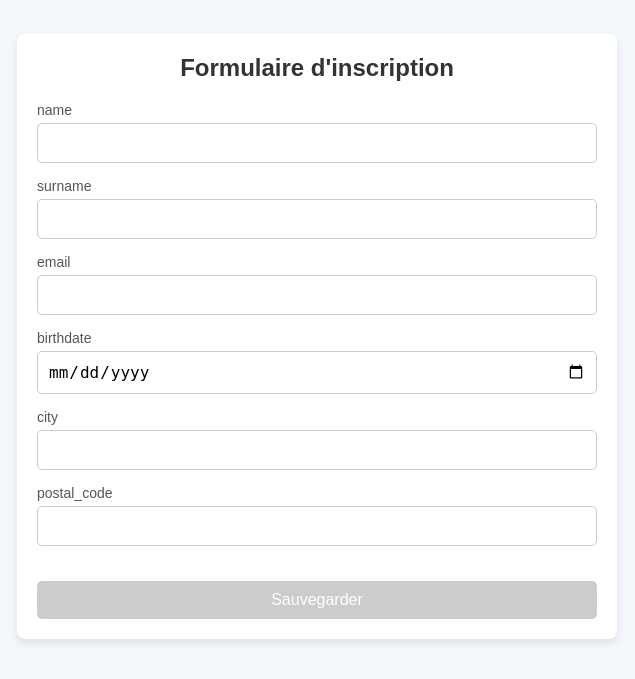
RegistrationForm › should validate form fields
The image size is (635, 679).
Type "John" into the field labelled "name" at (317, 142), box 37,122 -> 597,162
Type "Doe" into the field labelled "surname" at (317, 218), box 37,198 -> 597,238
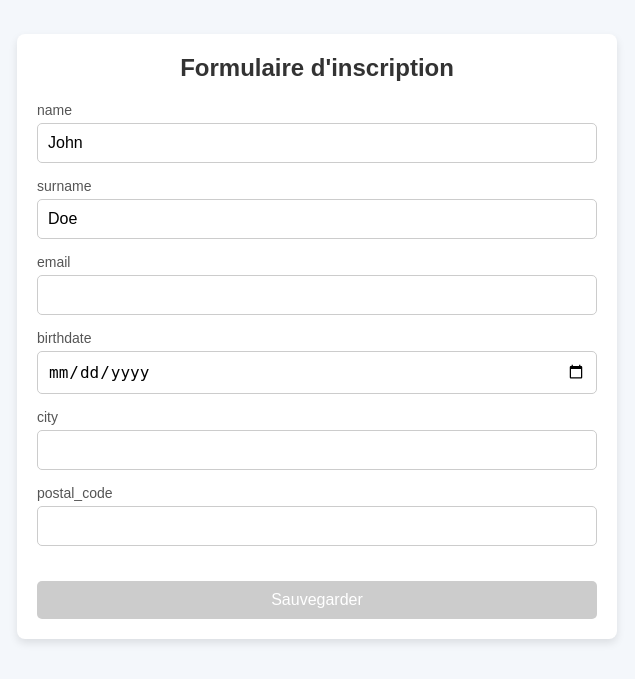
Type "invalid-email" into the field labelled "email" at (317, 294), box 37,274 -> 597,314
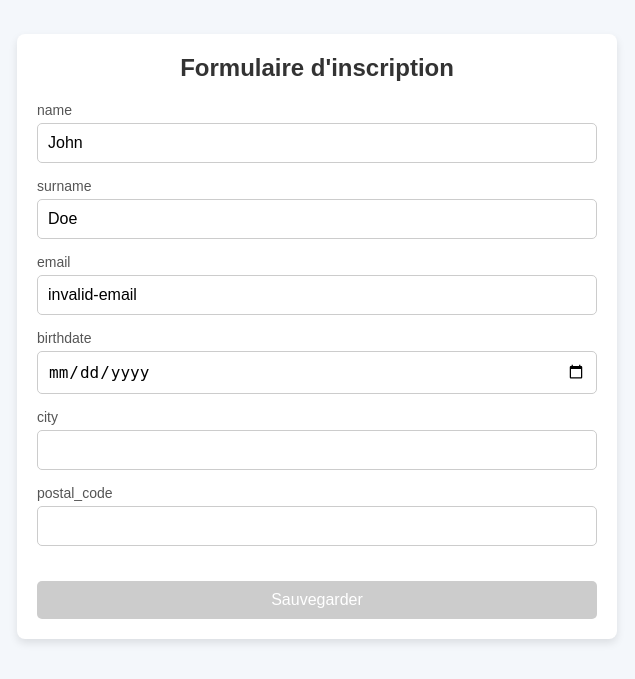
Type "2015-01-01" into the date field labelled "birthdate" at (317, 372), box 37,350 -> 597,394
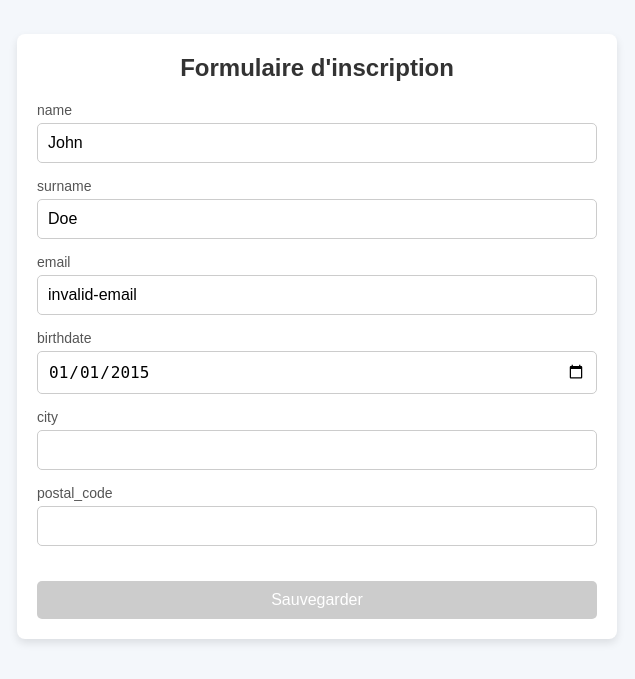
Type "Paris" into the field labelled "city" at (317, 450), box 37,430 -> 597,470
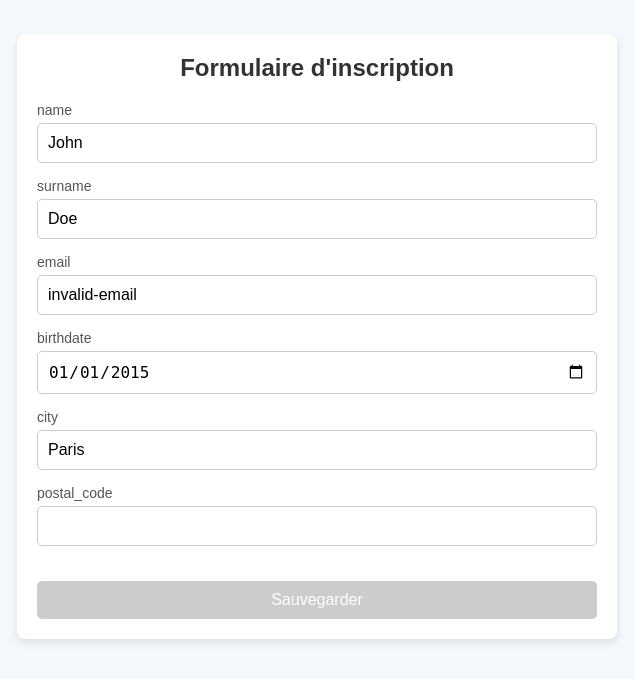
Type "75000" into the field labelled "postal_code" at (317, 526), box 37,506 -> 597,546
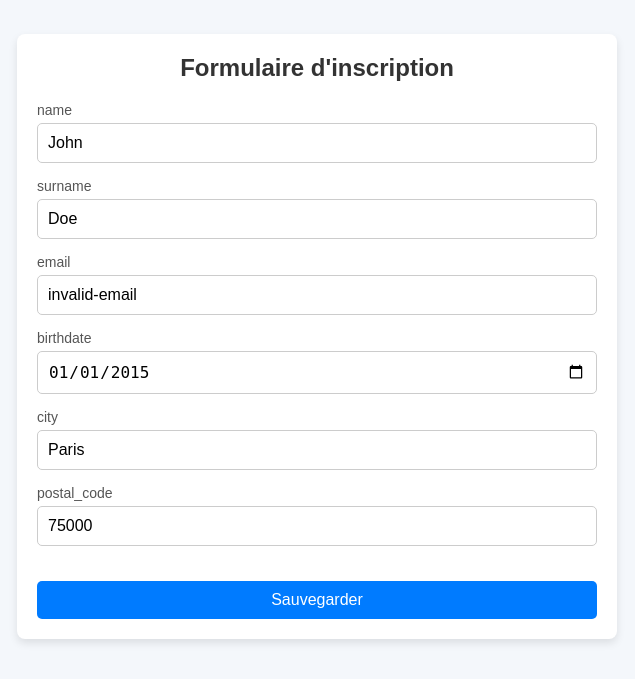
Submit the form from the button "Sauvegarder", box 37,580 -> 597,618
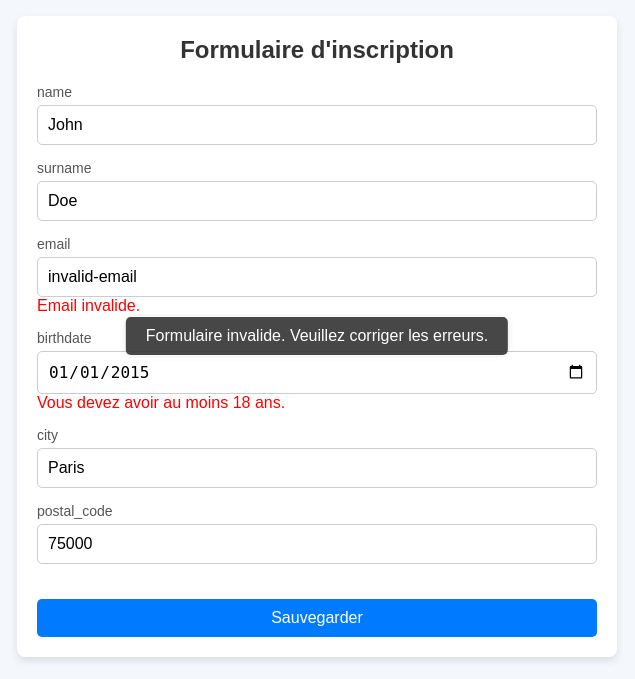
expect the text "Email invalide." is shown: met, box 37,296 -> 140,314
expect the text "Vous devez avoir au moins 18 ans." is shown: met, box 37,394 -> 285,410
